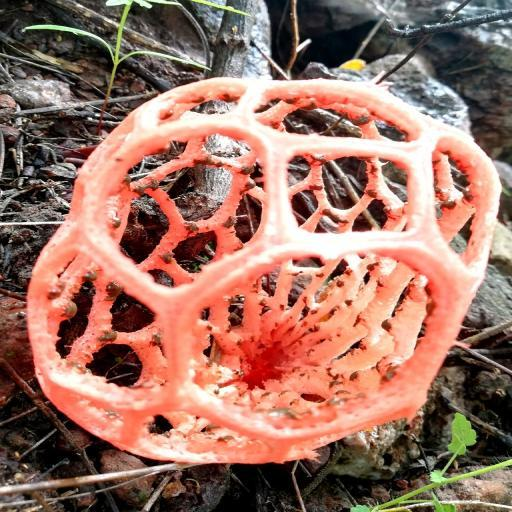mushroom: (36, 74, 487, 472)
